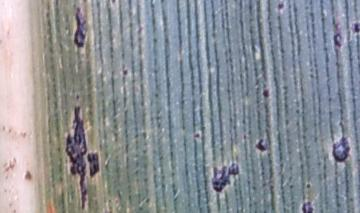tarspot: (64, 102, 89, 211), (208, 159, 242, 196), (70, 5, 90, 49), (331, 134, 350, 164), (88, 147, 104, 178), (251, 134, 270, 155), (330, 30, 344, 49), (301, 197, 314, 213), (350, 19, 360, 36), (261, 87, 272, 100), (273, 1, 287, 11), (121, 66, 129, 79), (193, 131, 201, 140)
